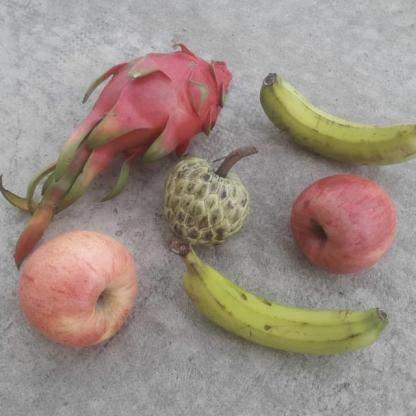annona: (160, 154, 250, 249)
apple: (14, 232, 136, 344), (288, 173, 404, 274)
banana: (184, 262, 389, 354), (260, 68, 416, 168)
pitaya: (103, 45, 234, 158)
